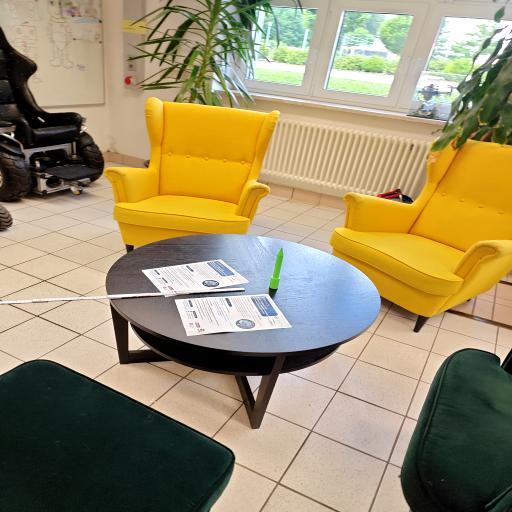Probe-Detection: (269, 247, 284, 289)
